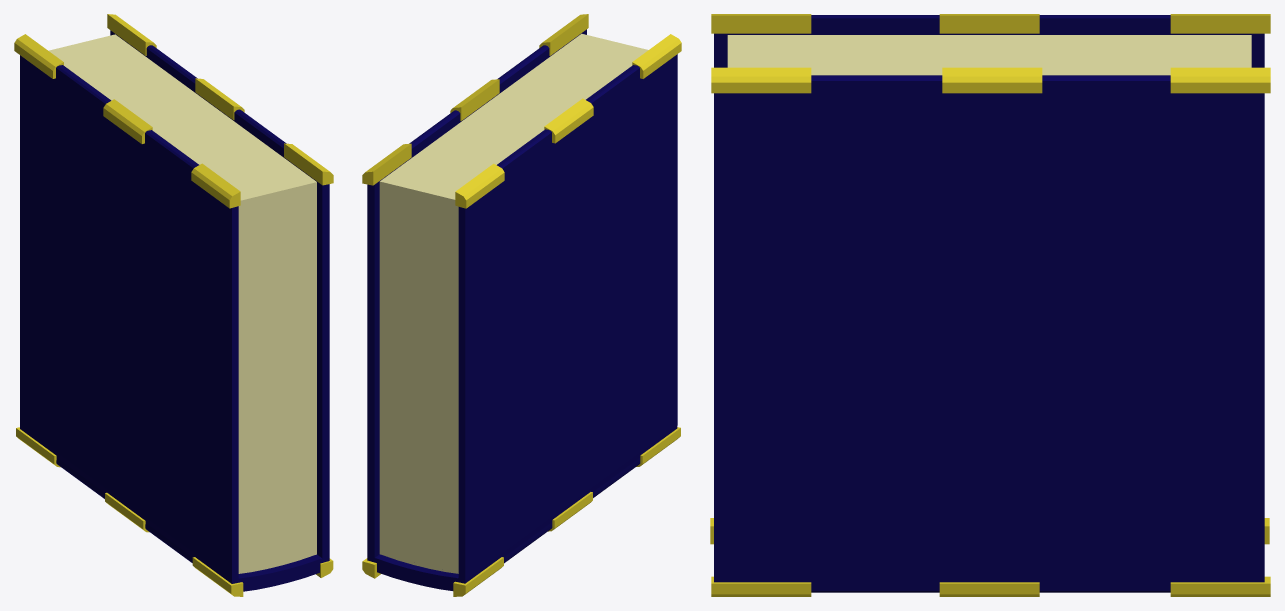
The model's file is ClosedBookThatCanChangeColor.fbx.
The picture shows the model from 3 angles, left to right: view 1: azimuth 30°, elevation 25°; view 2: azimuth 150°, elevation 25°; view 3: azimuth 270°, elevation 25°; orthographic projection. The views are drawn at different scales.
Parts seen in each view (by area): view 1: Cube.008, Cube.001, Cube.016, Cube.018, Cube.020, Cube.017, Cube.019, Cube.015, Cube.009, Cube.011, Cube.013; view 2: Cube.008, Cube.001, Cube.018, Cube.020, Cube.016, Cube.015, Cube.019, Cube.017, Cube.011, Cube.009, Cube.013; view 3: Cube.008, Cube.001, Cube.015, Cube.017, Cube.019, Cube.016, Cube.018, Cube.020, Cube.012, Cube.010, Cube.014.
Boxes of the visible parts, x1,y1,x2,y2 form: Cube.008: (20, 30, 329, 591); Cube.001: (48, 34, 316, 573); Cube.016: (191, 163, 240, 208); Cube.018: (14, 34, 63, 78); Cube.020: (103, 99, 152, 143); Cube.017: (284, 143, 333, 185); Cube.019: (195, 78, 244, 120); Cube.015: (107, 14, 156, 55); Cube.009: (192, 557, 243, 596); Cube.011: (16, 427, 60, 467); Cube.013: (105, 492, 149, 532); Cube.008: (367, 29, 677, 590); Cube.001: (379, 33, 648, 573); Cube.018: (455, 163, 504, 208); Cube.020: (544, 98, 593, 143); Cube.016: (632, 34, 681, 78); Cube.015: (362, 143, 411, 185); Cube.019: (450, 79, 499, 120); Cube.017: (539, 14, 588, 55); Cube.011: (453, 557, 503, 596); Cube.009: (636, 427, 680, 466); Cube.013: (548, 492, 592, 531); Cube.008: (714, 15, 1264, 592); Cube.001: (727, 35, 1251, 75); Cube.015: (1170, 67, 1270, 93); Cube.017: (711, 67, 811, 93); Cube.019: (942, 67, 1042, 93); Cube.016: (711, 14, 811, 33); Cube.018: (1170, 14, 1270, 33); Cube.020: (939, 14, 1039, 33); Cube.012: (1170, 576, 1270, 596); Cube.010: (711, 576, 811, 596); Cube.014: (939, 582, 1039, 596).
Size of the model in its own units: 220 by 822 by 791.
